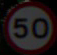Speed limit: (4, 1, 50, 46)
